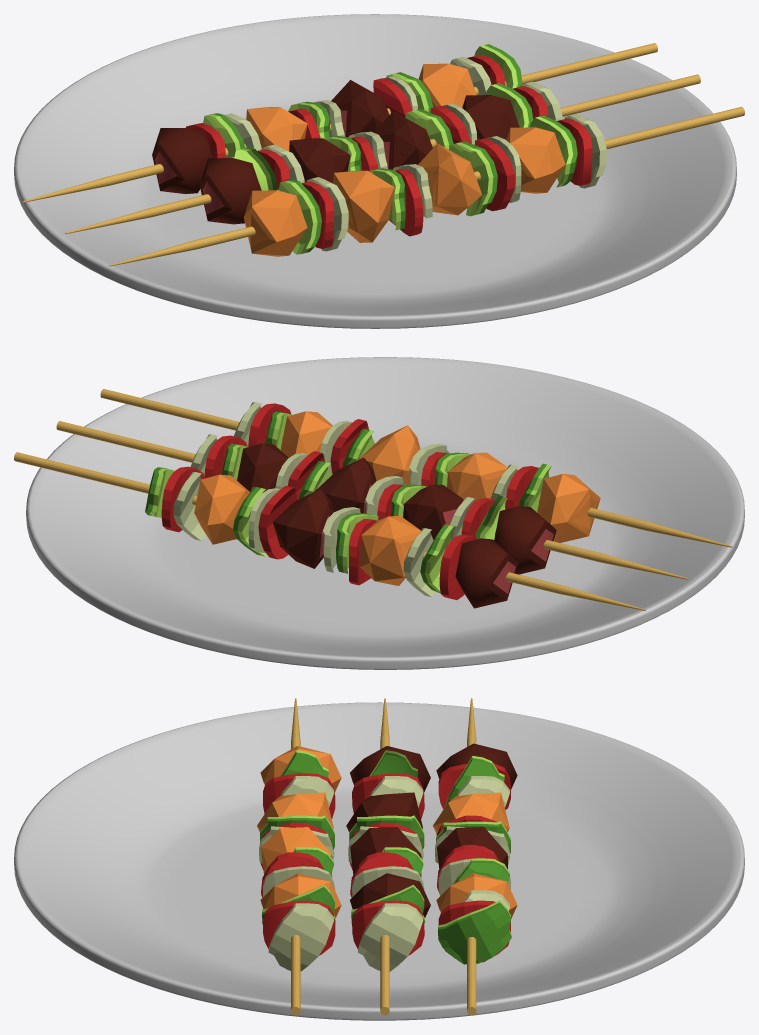
3 views of the same model, one above another, from view 1: azimuth 30°, elevation 25°; view 2: azimuth 150°, elevation 25°; view 3: azimuth 270°, elevation 25° (orthographic).
Parts seen in each view (by area): view 1: ChamferCyl001, Box035, GeoSphere006, GeoSphere007; view 2: ChamferCyl001, GeoSphere007, Box035, GeoSphere006; view 3: ChamferCyl001, GeoSphere006, Box035, GeoSphere007.
Boxes of the visible parts, box(x1,y1,x2,y2) form: ChamferCyl001: box(14, 14, 736, 328); Box035: box(109, 106, 744, 266); GeoSphere006: box(65, 74, 700, 233); GeoSphere007: box(22, 43, 657, 202); ChamferCyl001: box(26, 357, 744, 669); GeoSphere007: box(14, 452, 645, 610); Box035: box(100, 389, 732, 547); GeoSphere006: box(56, 421, 688, 579); ChamferCyl001: box(14, 702, 744, 1020); GeoSphere006: box(346, 698, 430, 1015); Box035: box(257, 698, 341, 1015); GeoSphere007: box(433, 698, 517, 1015).
Size of the model in its own units: 112 by 14.77 by 110.
